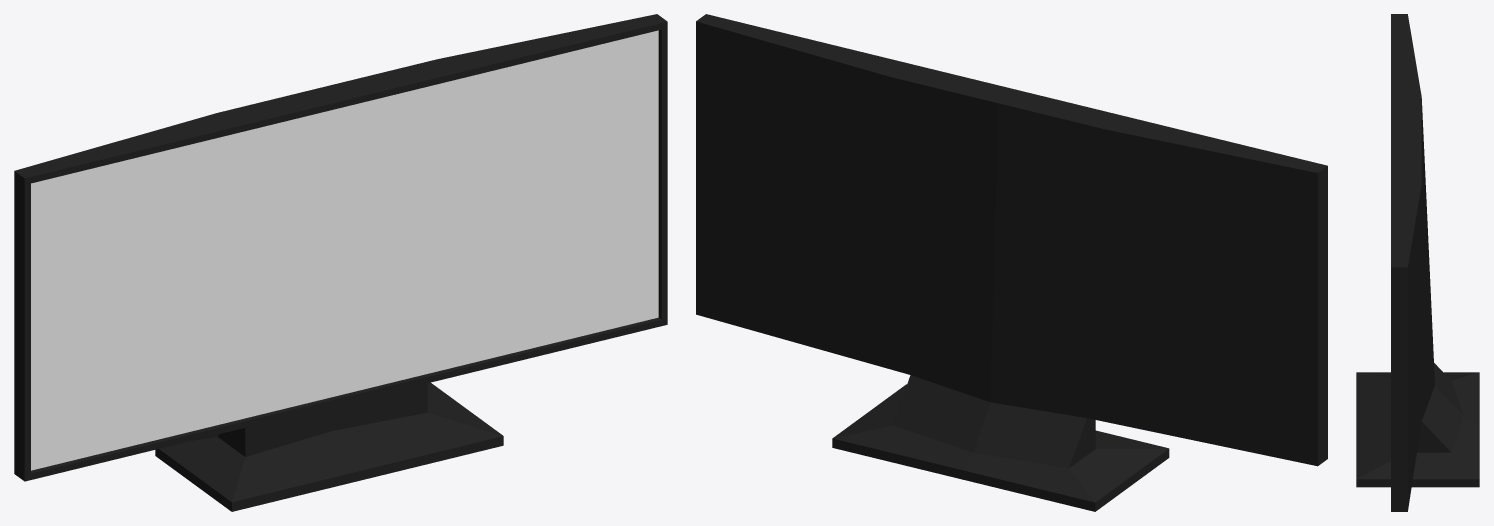
Rendered from Lounge TV.glb.
3 views of the same model, side by side, from view 1: azimuth 30°, elevation 25°; view 2: azimuth 150°, elevation 25°; view 3: azimuth 270°, elevation 25° (orthographic). The views are drawn at different scales.
Visible parts, largest first — view 1: TV; view 2: TV; view 3: TV.
Part boxes in pixels (x1,y1,x2,y2): TV: (14, 14, 667, 511); TV: (696, 14, 1327, 511); TV: (1356, 14, 1479, 511).
Size of the model in its own units: 1.59 by 0.8599 by 0.3289.
Materials: 2 (1 with a texture image).
